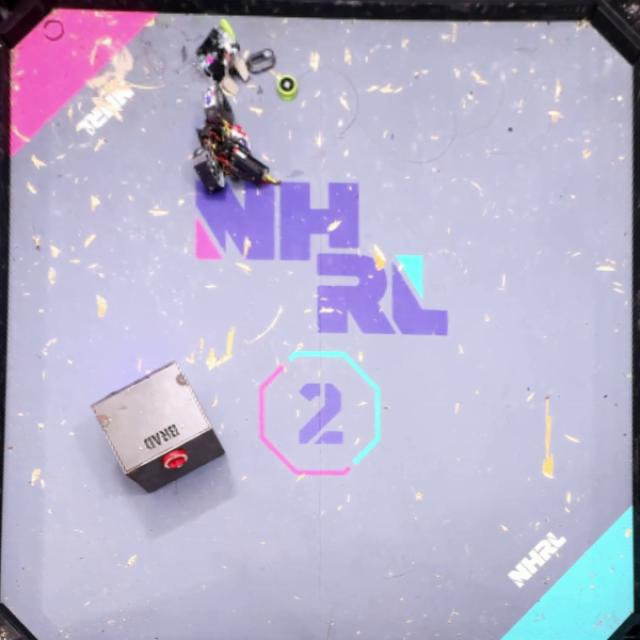housebot: (89, 359, 227, 495)
robot: (190, 85, 282, 199), (194, 18, 252, 94)
